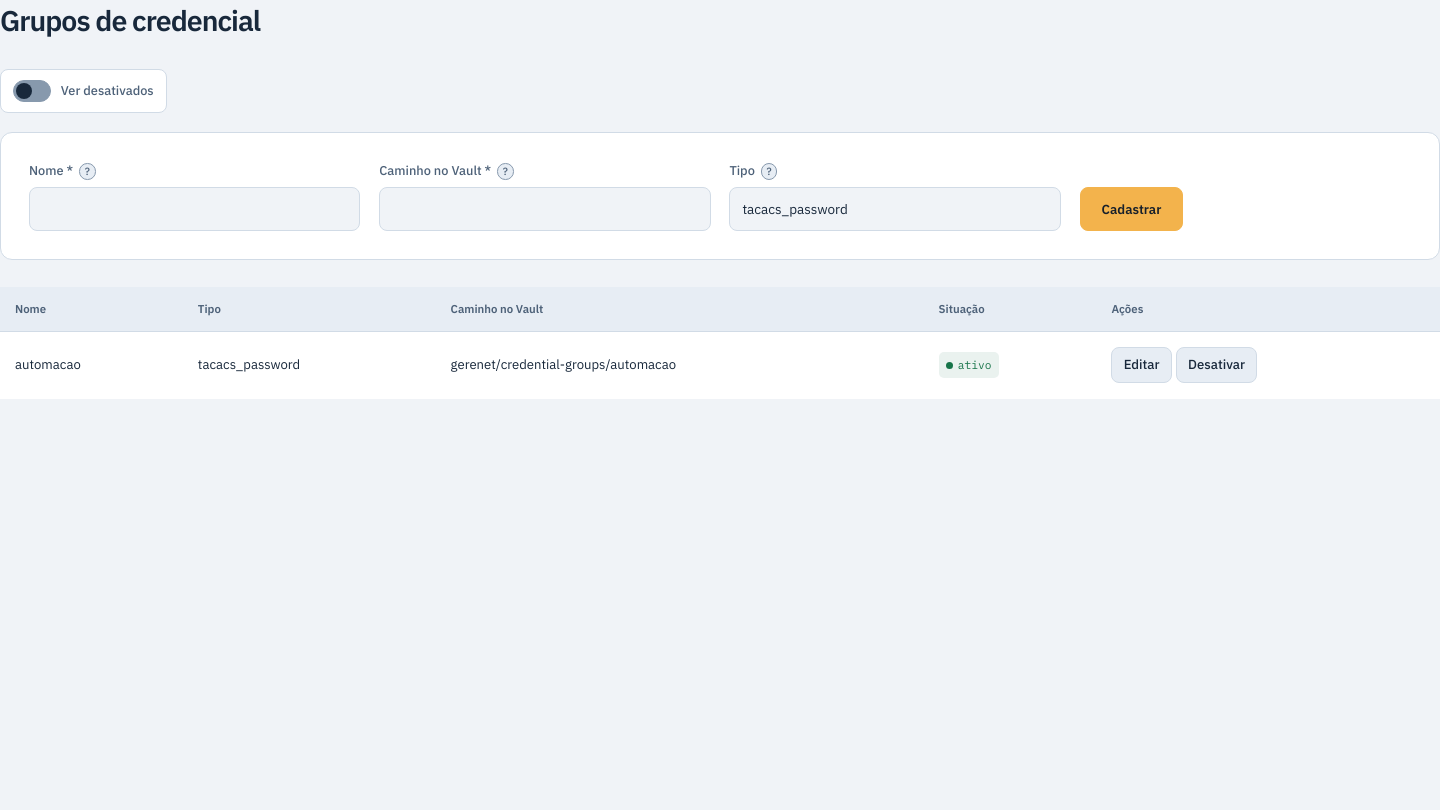
Test: CredentialGroups › desativa grupo com confirmação
Expected: the text "automacao" is shown, [0,331,183,399]
Step 1. Click the button "Desativar" → (1216, 365), box [1176,347,1257,383]
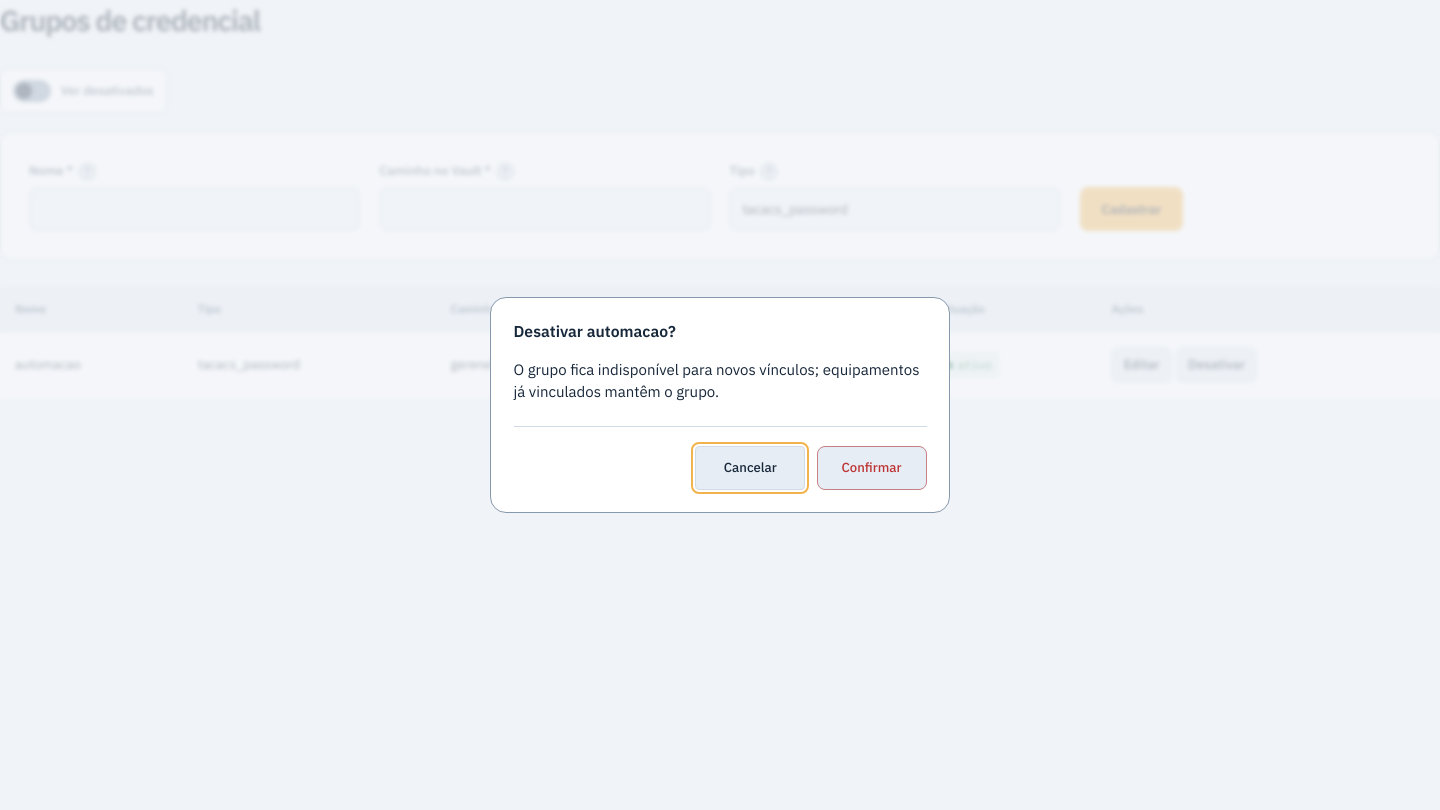
Now the dialog "Desativar automacao?" is shown, box [490,297,950,514]
Step 2. Click the button "Confirmar" → (872, 468), box [816,446,926,490]
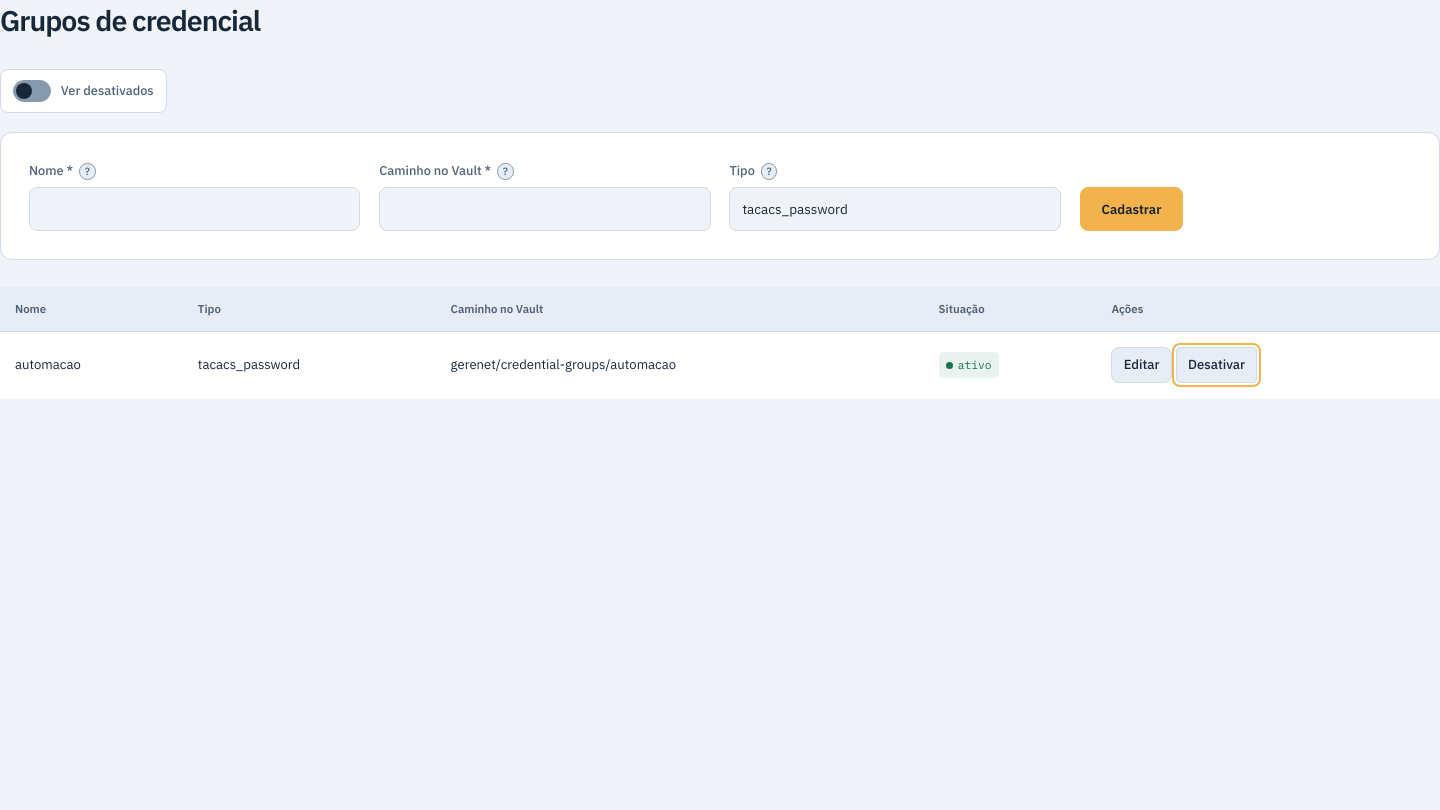
Now the dialog is gone
